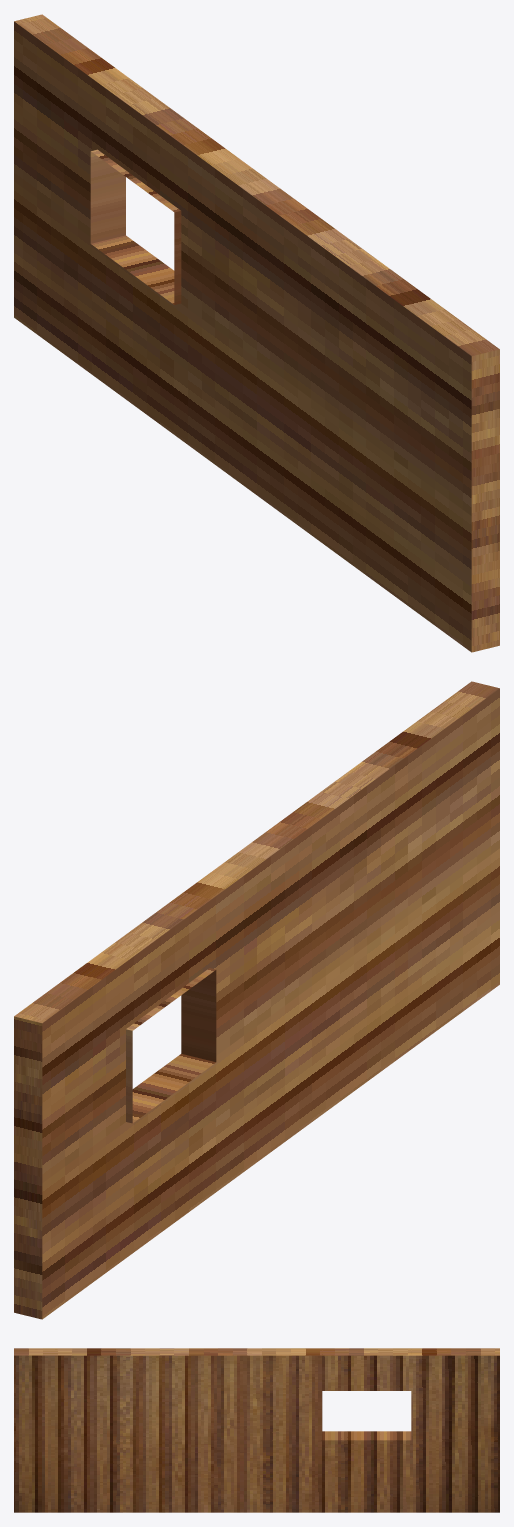
File: wall with hole.glb
3 renders of one model, top to bottom at view 1: azimuth 30°, elevation 25°; view 2: azimuth 150°, elevation 25°; view 3: azimuth 270°, elevation 25°, orthographic. The views are drawn at different scales.
Parts seen in each view (by area): view 1: Cube; view 2: Cube; view 3: Cube.
Boxes of the visible parts, x1,y1,x2,y2 form: Cube: (14,14,499,652); Cube: (14,681,499,1319); Cube: (14,1348,499,1512).
Bounding box in the file's own units: 2.48 × 20 × 56.
1 material, 1 textured.
